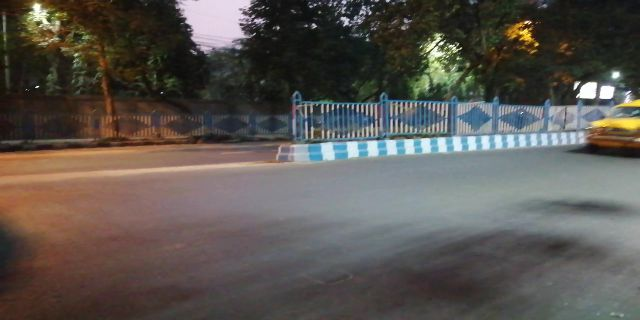Car: (584, 100, 640, 155)
